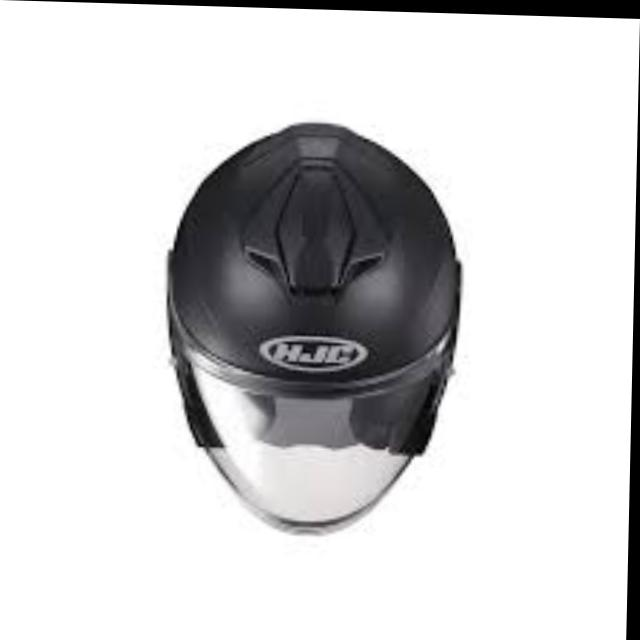motorcycle-helmets: (166, 123, 458, 530)
